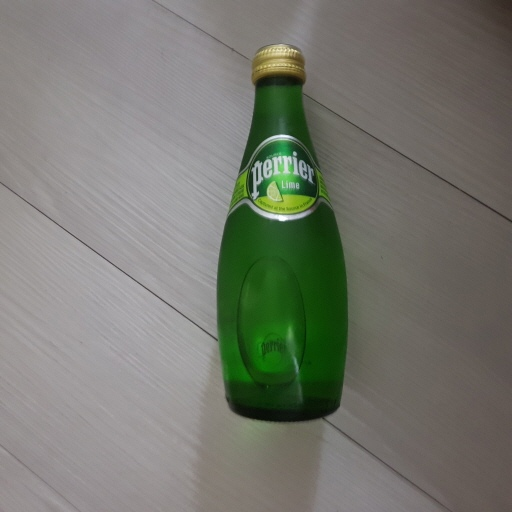Glass_4: (208, 39, 356, 429)
